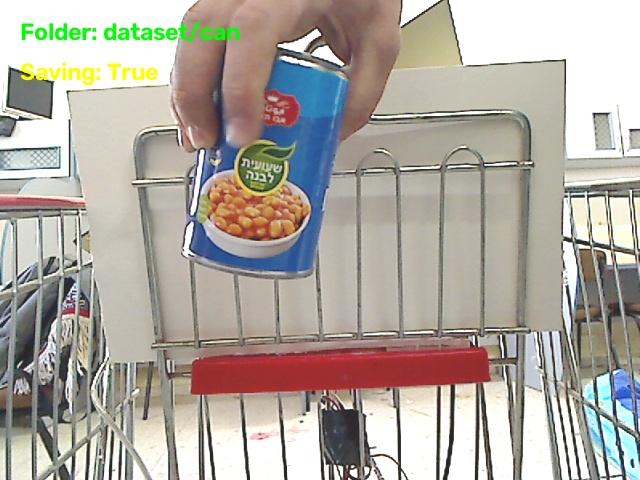can: (183, 50, 347, 277)
